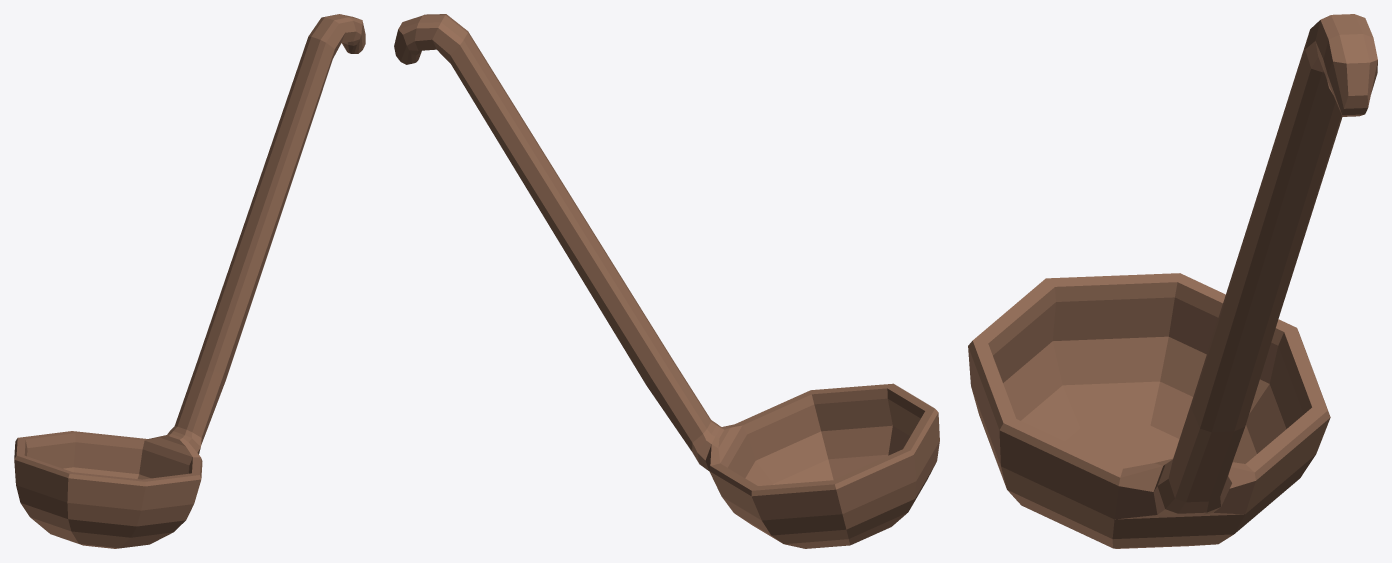
File: copperLadle.fbx
The picture shows the model from 3 angles, left to right: view 1: azimuth 30°, elevation 25°; view 2: azimuth 150°, elevation 25°; view 3: azimuth 270°, elevation 25°; orthographic projection. The views are drawn at different scales.
Visible parts, largest first — view 1: ladle; view 2: ladle; view 3: ladle.
Part boxes in pixels (box(x1,y1,x2,y2)): ladle: box(14, 14, 365, 548); ladle: box(394, 14, 939, 548); ladle: box(968, 14, 1377, 548).
Size of the model in its own units: 3.33 by 3.32 by 1.63.
